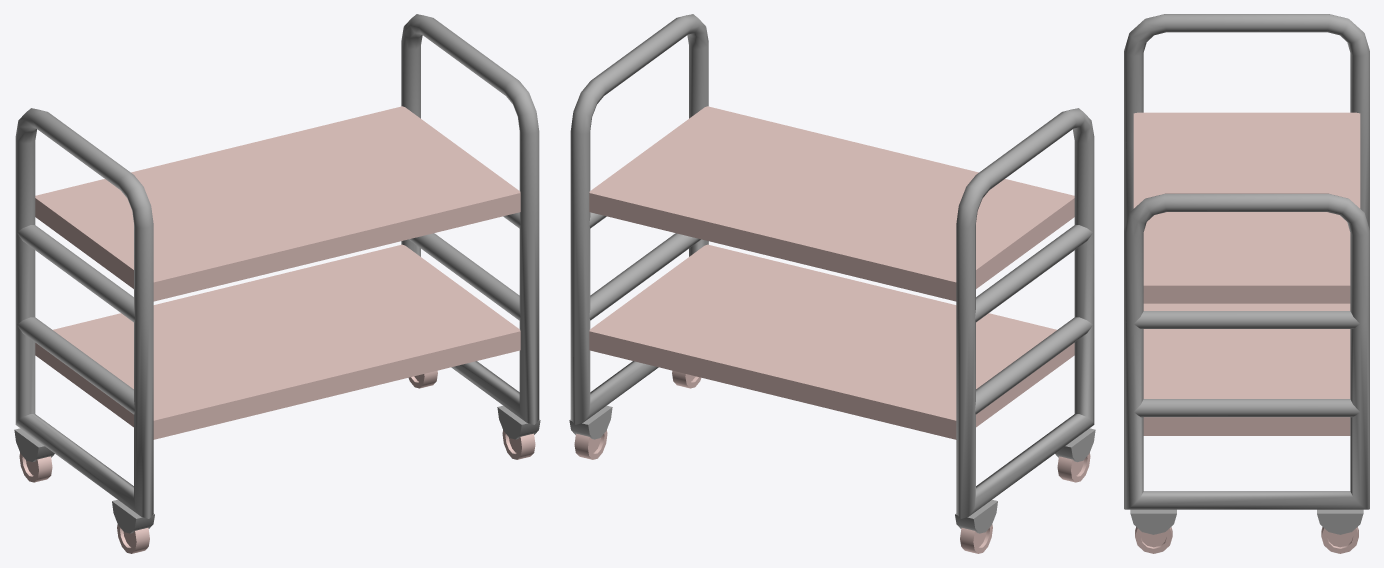
File: Prateleria Rodas.fbx
The picture shows the model from 3 angles, left to right: view 1: azimuth 30°, elevation 25°; view 2: azimuth 150°, elevation 25°; view 3: azimuth 270°, elevation 25°; orthographic projection. The views are drawn at different scales.
Visible parts, largest first — view 1: Plano.005; view 2: Plano.005; view 3: Plano.005.
Part boxes in pixels (x1=…): Plano.005: x1=14, y1=14, x2=540, y2=553; Plano.005: x1=569, y1=14, x2=1095, y2=553; Plano.005: x1=1124, y1=14, x2=1369, y2=553.
Size of the model in its own units: 488 by 430 by 269.
